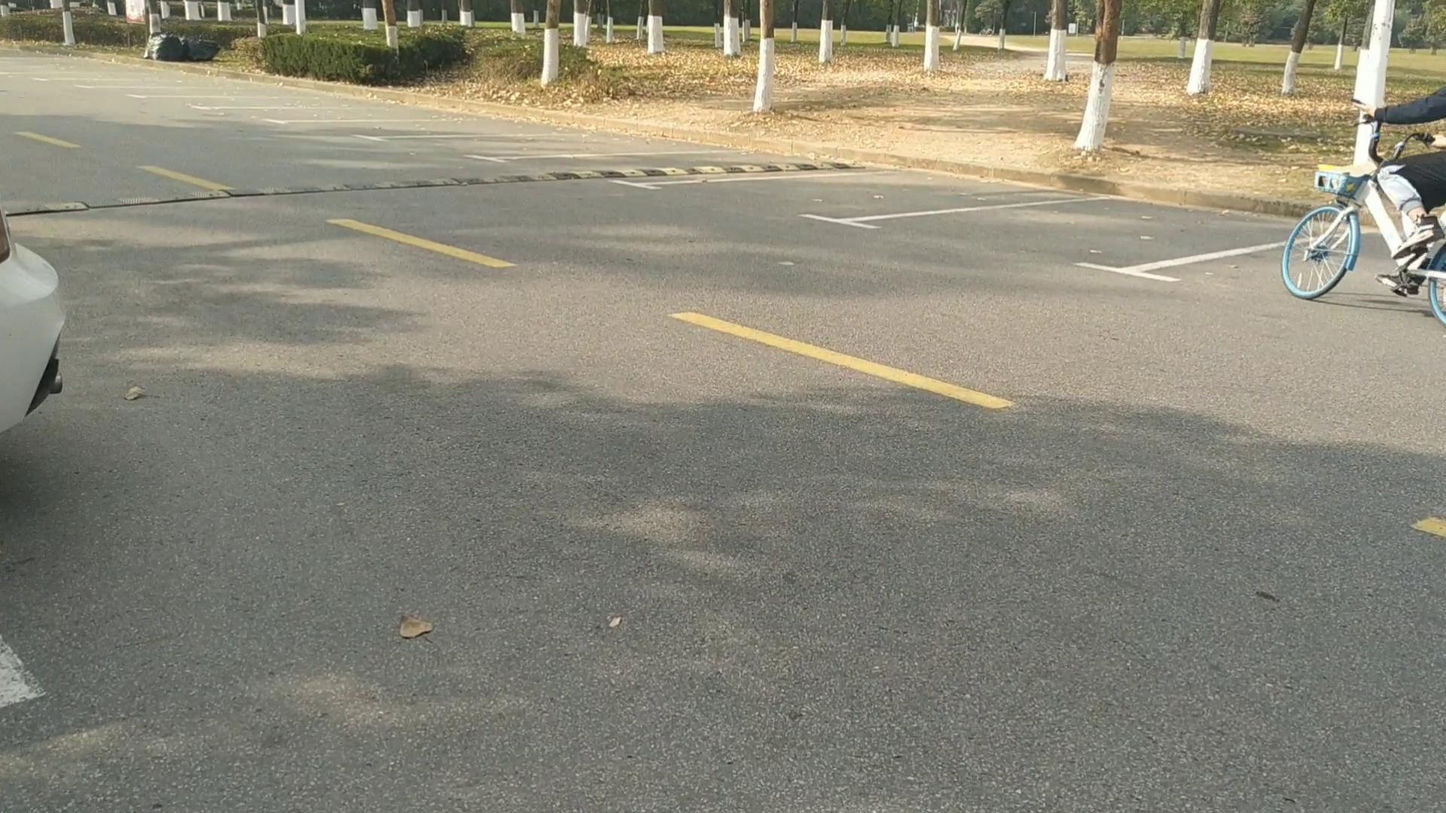car: (1, 208, 66, 434)
